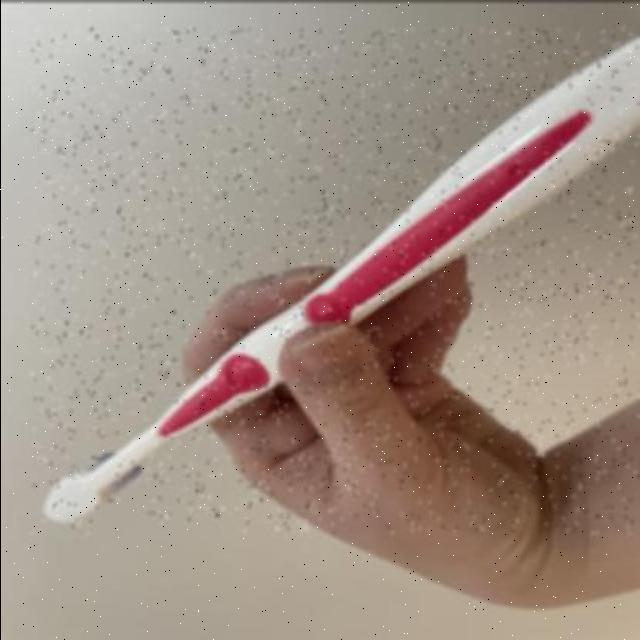toothbrush: (30, 26, 640, 532)
